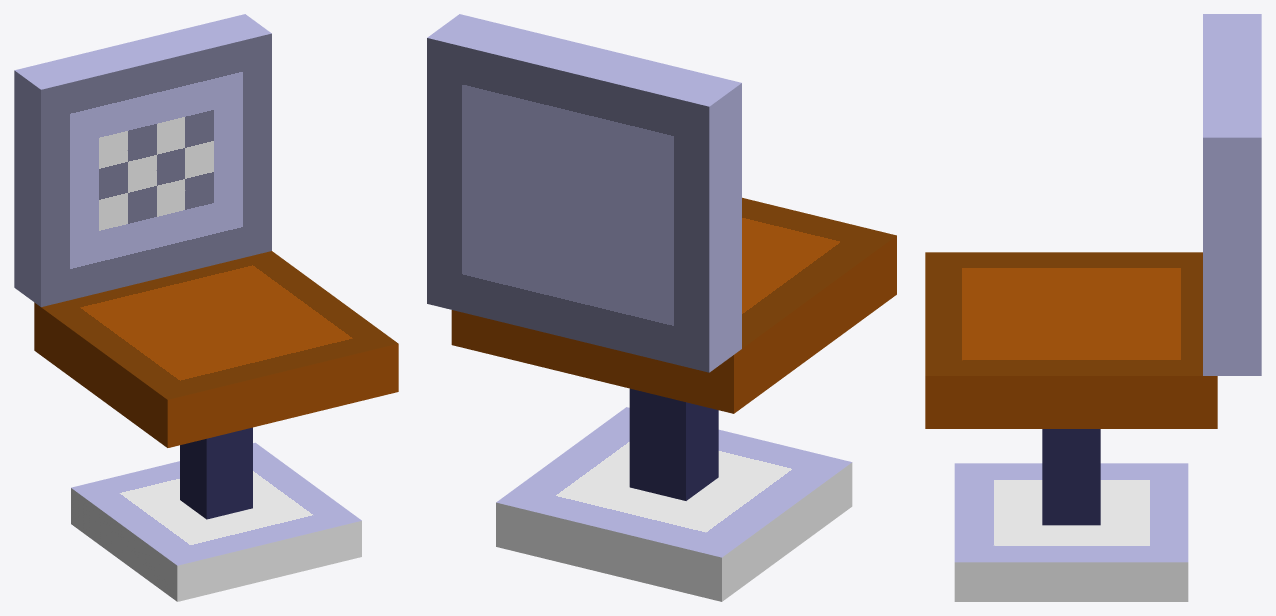
Rendered from hitek_tile_037.gltf.
The picture shows the model from 3 angles, left to right: view 1: azimuth 30°, elevation 25°; view 2: azimuth 150°, elevation 25°; view 3: azimuth 270°, elevation 25°; orthographic projection. The views are drawn at different scales.
Visible parts, largest first — view 1: hitek_tile_037; view 2: hitek_tile_037; view 3: hitek_tile_037.
Part boxes in pixels (box(x1,y1,x2,y2)): hitek_tile_037: box(14, 14, 398, 601); hitek_tile_037: box(427, 14, 896, 601); hitek_tile_037: box(925, 14, 1261, 601).
Size of the model in its own units: 10 by 18 by 11.5.
Materials: 1 (1 with a texture image).
